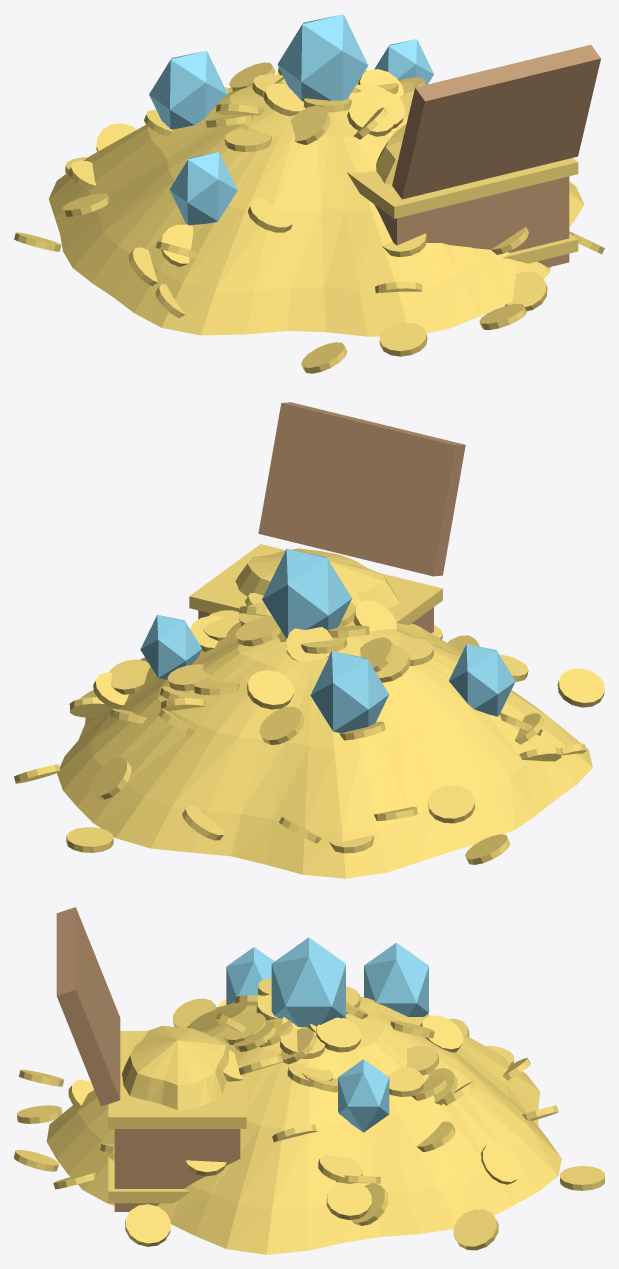
The model's file is SandHoard.glb.
3 views of the same model, one above another, from view 1: azimuth 30°, elevation 25°; view 2: azimuth 150°, elevation 25°; view 3: azimuth 270°, elevation 25° (orthographic). The views are drawn at different scales.
Visible parts, largest first — view 1: Gold, Wood, Gem; view 2: Gold, Wood, Gem; view 3: Gold, Wood, Gem.
Part boxes in pixels (bbox=[...]): Gold: bbox=[14, 62, 604, 373]; Wood: bbox=[374, 44, 600, 267]; Gem: bbox=[149, 14, 433, 225]; Gold: bbox=[14, 544, 604, 878]; Wood: bbox=[198, 402, 465, 632]; Gem: bbox=[140, 548, 515, 733]; Gold: bbox=[14, 977, 604, 1254]; Wood: bbox=[56, 907, 240, 1211]; Gem: bbox=[226, 937, 428, 1132].
Bounding box in the file's own units: 9.85 × 4.77 × 10.8.
